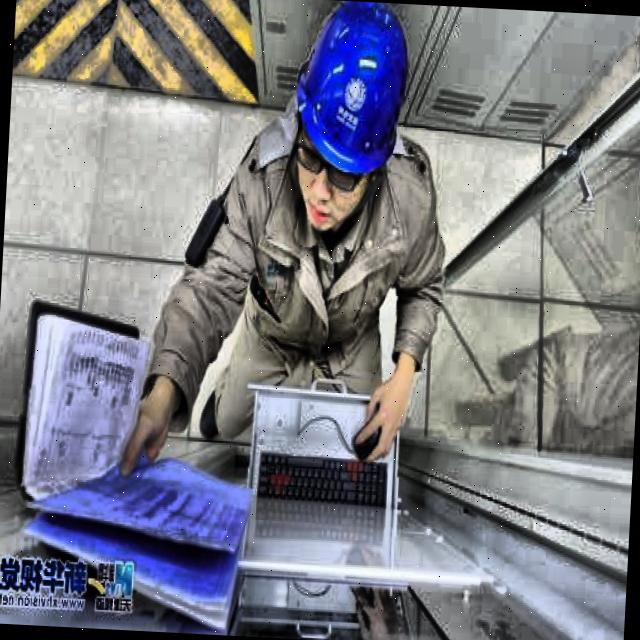helmet: (277, 0, 420, 256)
